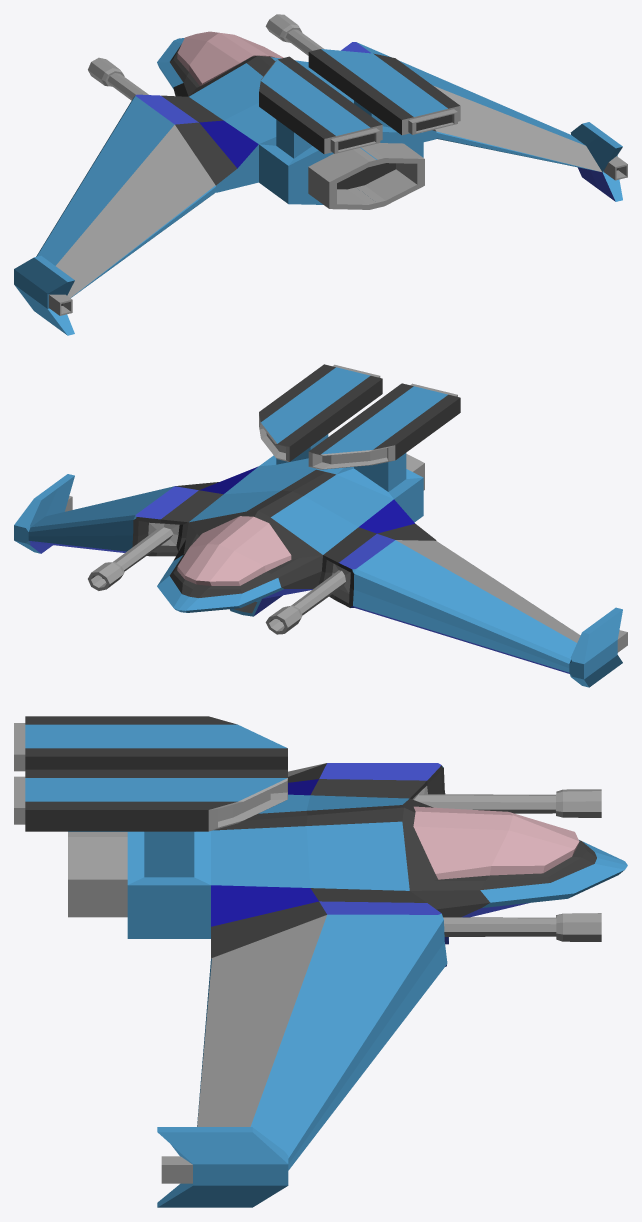
The model's file is Drone.fbx.
3 views of the same model, one above another, from view 1: azimuth 30°, elevation 25°; view 2: azimuth 150°, elevation 25°; view 3: azimuth 270°, elevation 25° (orthographic). The views are drawn at different scales.
Parts seen in each view (by area): view 1: Cube; view 2: Cube; view 3: Cube.
Boxes of the visible parts, left/top/right/bottom form: Cube: left=14, top=14, right=627, bottom=335; Cube: left=14, top=364, right=627, bottom=687; Cube: left=14, top=716, right=627, bottom=1207.
Bounding box in the file's own units: 779 × 235 × 516.
